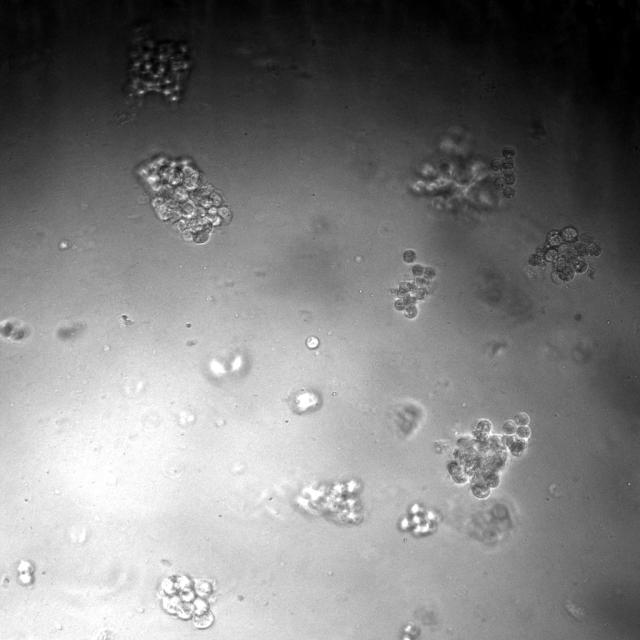organoid: (138, 156, 232, 242), (411, 130, 503, 212), (447, 412, 531, 498), (126, 27, 191, 103), (527, 225, 602, 286), (389, 249, 436, 319), (296, 478, 364, 524), (159, 574, 214, 628), (489, 145, 516, 199), (399, 503, 439, 537), (288, 389, 321, 415), (0, 318, 30, 343), (16, 559, 34, 585), (401, 622, 421, 639), (305, 335, 319, 349)
